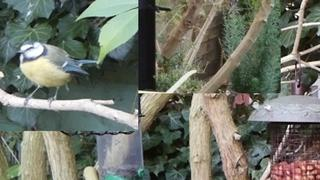blue tit: (15, 40, 98, 109)
